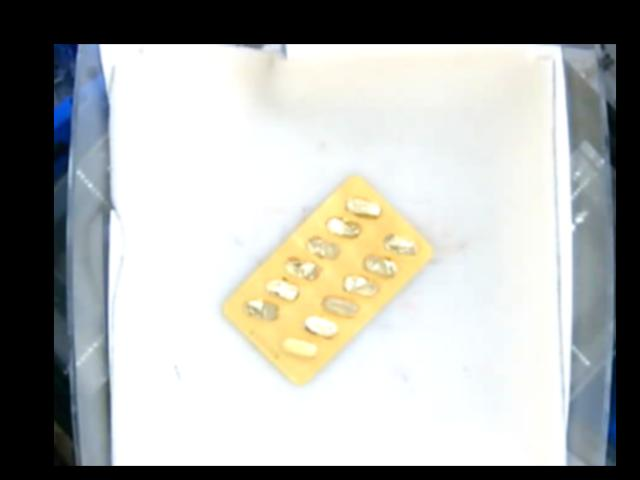Medicine: (225, 173, 425, 385)
